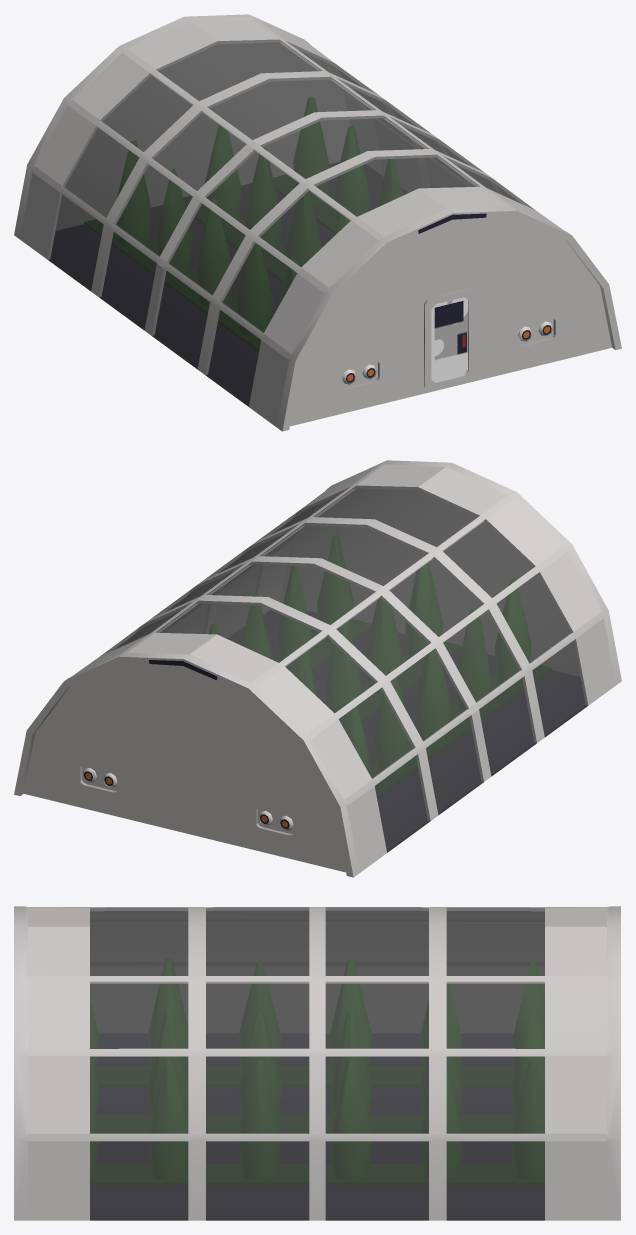
File: greenhouse2.fbx
3 views of the same model, one above another, from view 1: azimuth 30°, elevation 25°; view 2: azimuth 150°, elevation 25°; view 3: azimuth 270°, elevation 25° (orthographic). The views are drawn at different scales.
Parts seen in each view (by area): view 1: greenhouse2; view 2: greenhouse2; view 3: greenhouse2.
Boxes of the visible parts, <box> form: greenhouse2: <box>14,14,621,431</box>; greenhouse2: <box>14,460,621,877</box>; greenhouse2: <box>14,906,620,1220</box>.
Size of the model in its own units: 7.31 by 3.64 by 10.02.
